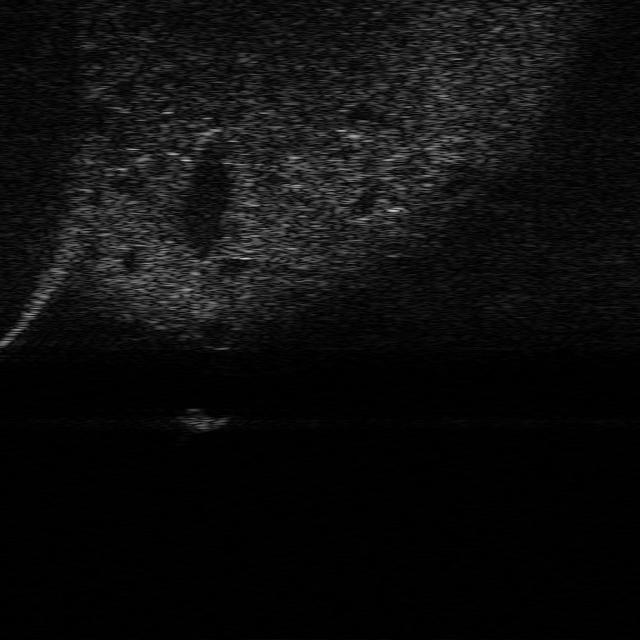cube: (176, 403, 226, 433)
